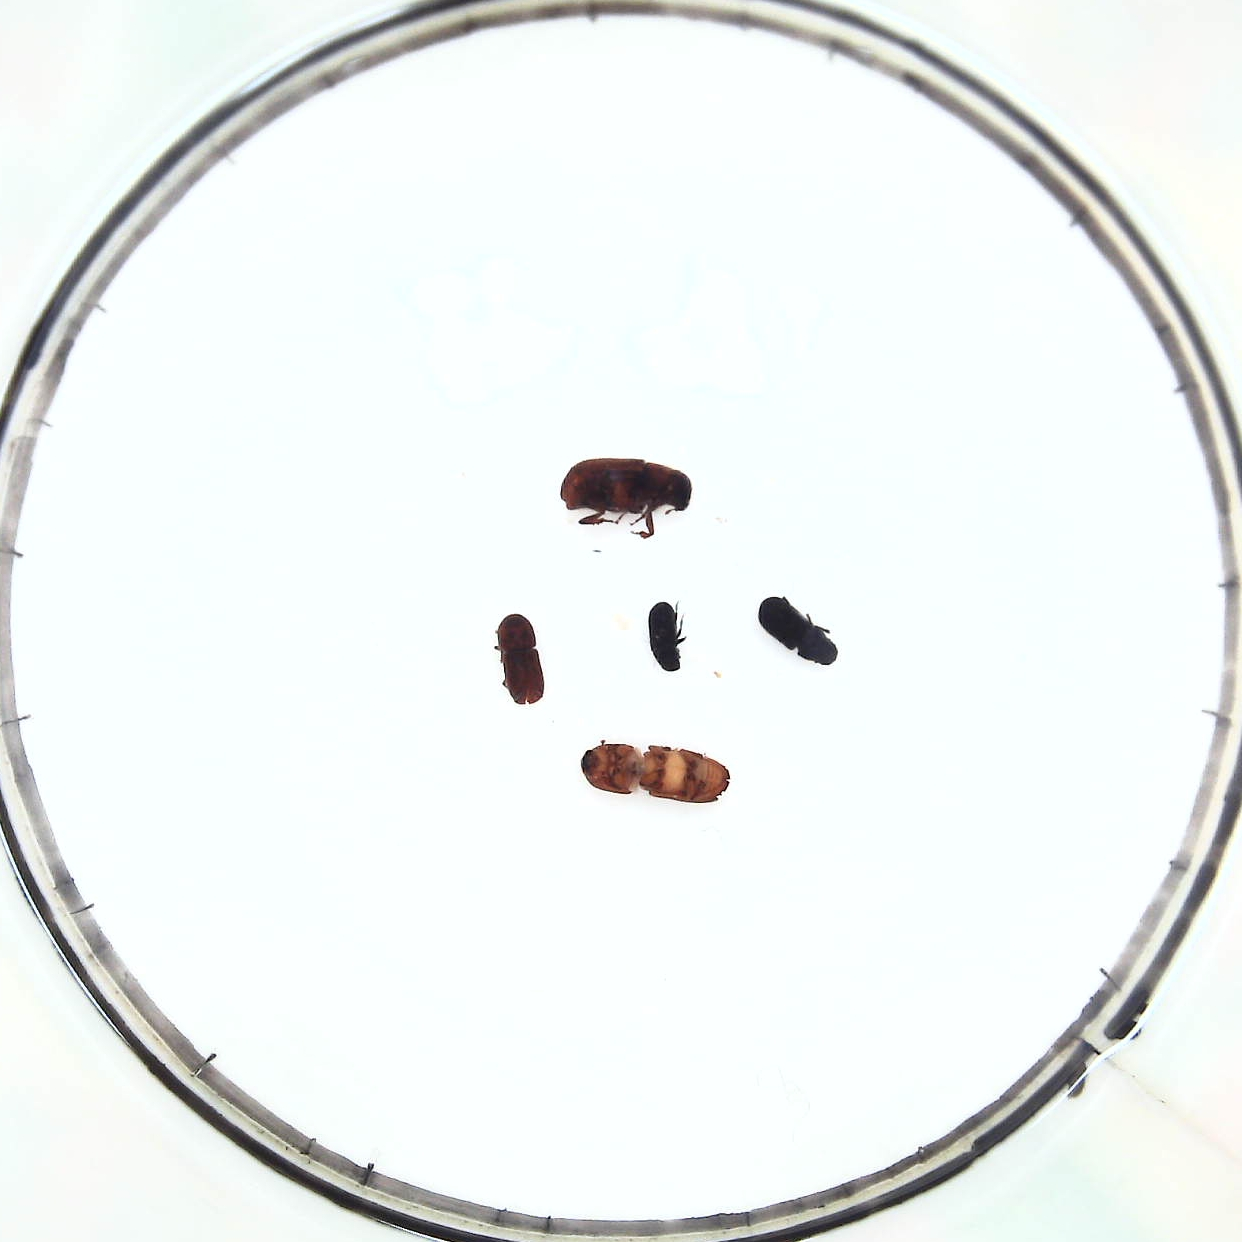Boerner: (583, 739, 731, 811)
Leconte: (560, 454, 692, 535)
Linnaeus: (492, 613, 549, 710)
armandi: (755, 593, 841, 668)
coleoptera: (645, 596, 688, 674)
